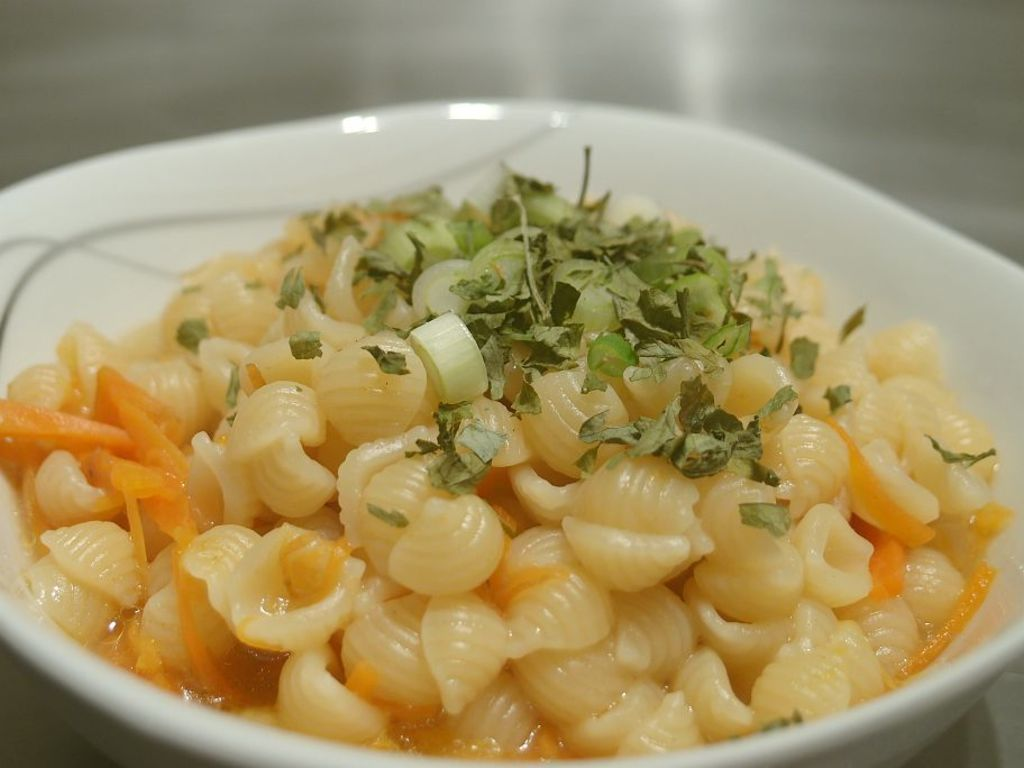pasta: (1, 140, 1003, 761)
